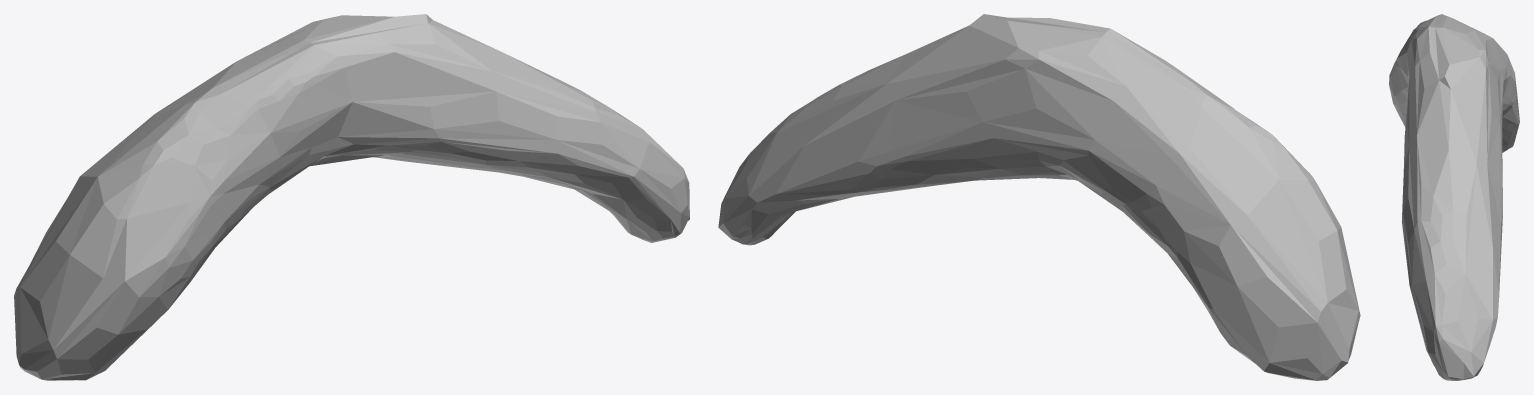
File: Rock_044.glb
The picture shows the model from 3 angles, left to right: view 1: azimuth 30°, elevation 25°; view 2: azimuth 150°, elevation 25°; view 3: azimuth 270°, elevation 25°; orthographic projection. The views are drawn at different scales.
Visible parts, largest first — view 1: Rock_044; view 2: Rock_044; view 3: Rock_044.
Boxes of the visible parts, x1,y1,x2,y2 form: Rock_044: (14,14,689,380); Rock_044: (718,14,1360,380); Rock_044: (1389,14,1519,380).
Size of the model in its own units: 15.33 by 6.59 by 3.52.
1 material, 1 textured.
